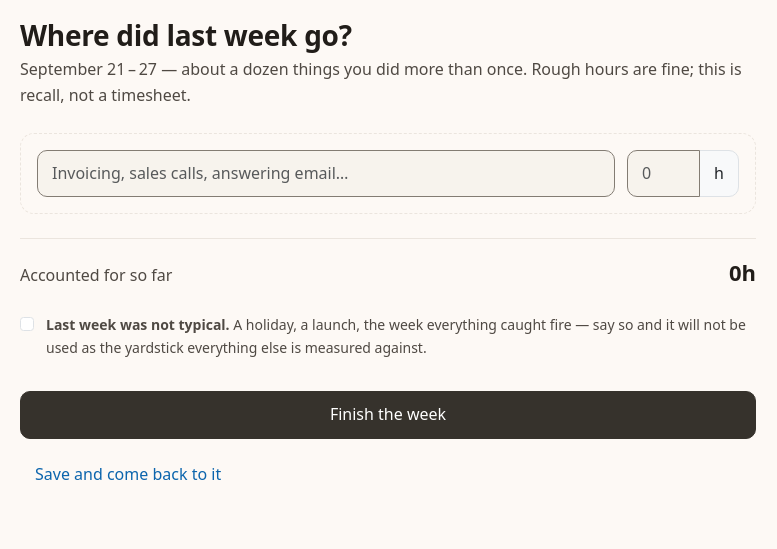
Scenario: recalling last week › will not finish a week with nothing in it
expect the heading "Where did last week go?" is shown: met, box [20,16,352,54]
Click the button "Finish the week": (388, 415) [20,391,756,439]
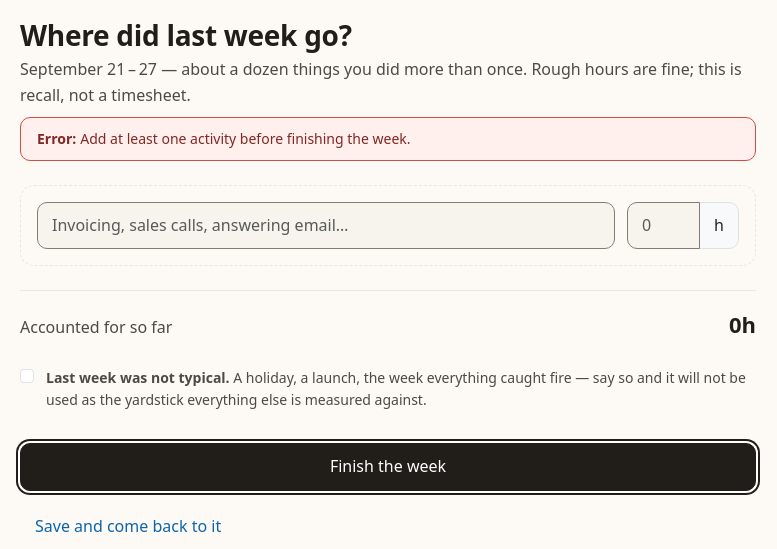
expect the text "Error:Add at least one activity before finishing the week." is shown: met, box [20,117,756,161]
